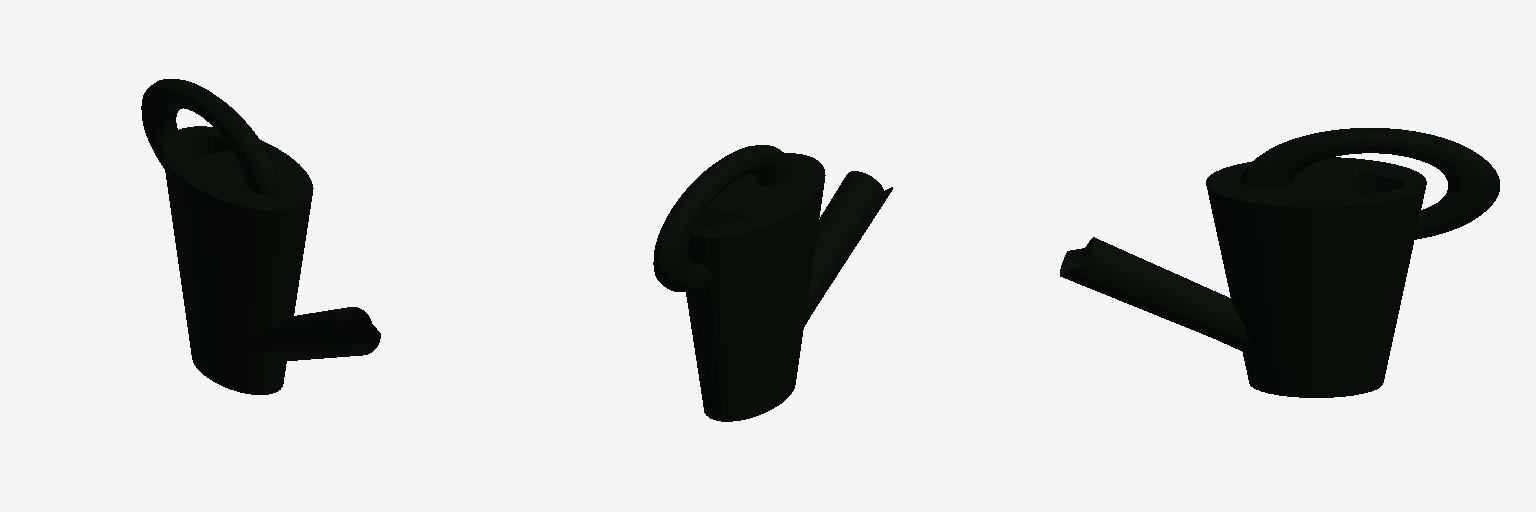
The model's file is wat.obj.
3 renders of one model, left to right at view 1: azimuth 30°, elevation 25°; view 2: azimuth 150°, elevation 25°; view 3: azimuth 270°, elevation 25°, orthographic.
Parts seen in each view (by area): view 1: Torus; view 2: Torus; view 3: Torus.
Boxes of the visible parts, x1,y1,x2,y2 form: Torus: [141, 79, 380, 394]; Torus: [653, 145, 892, 421]; Torus: [1060, 128, 1499, 397].
Size of the model in its own units: 1.08 by 2.53 by 3.98.